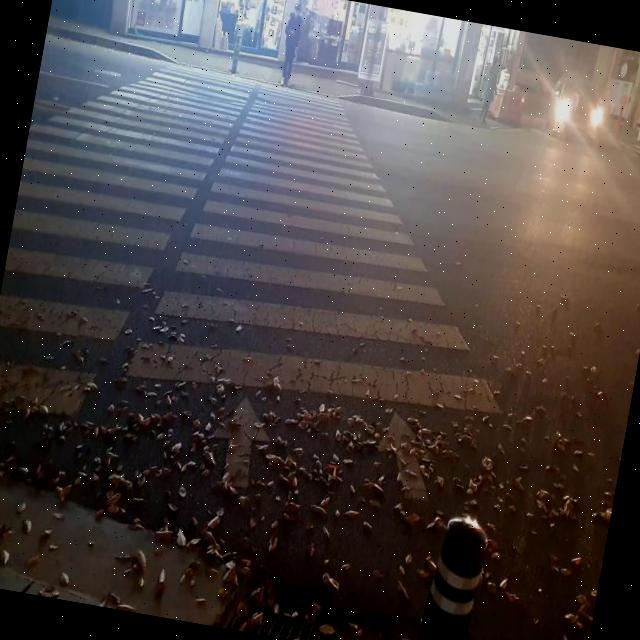crosswalk: (0, 62, 536, 519)
